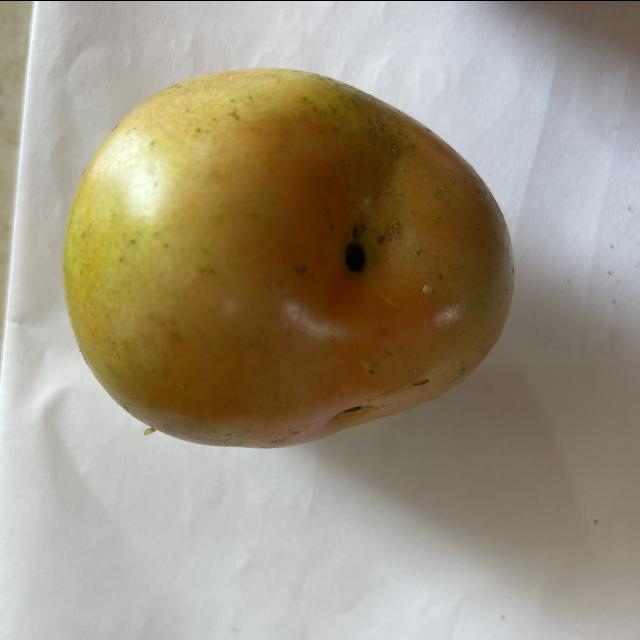fruitworm_bore: (334, 230, 379, 281)
